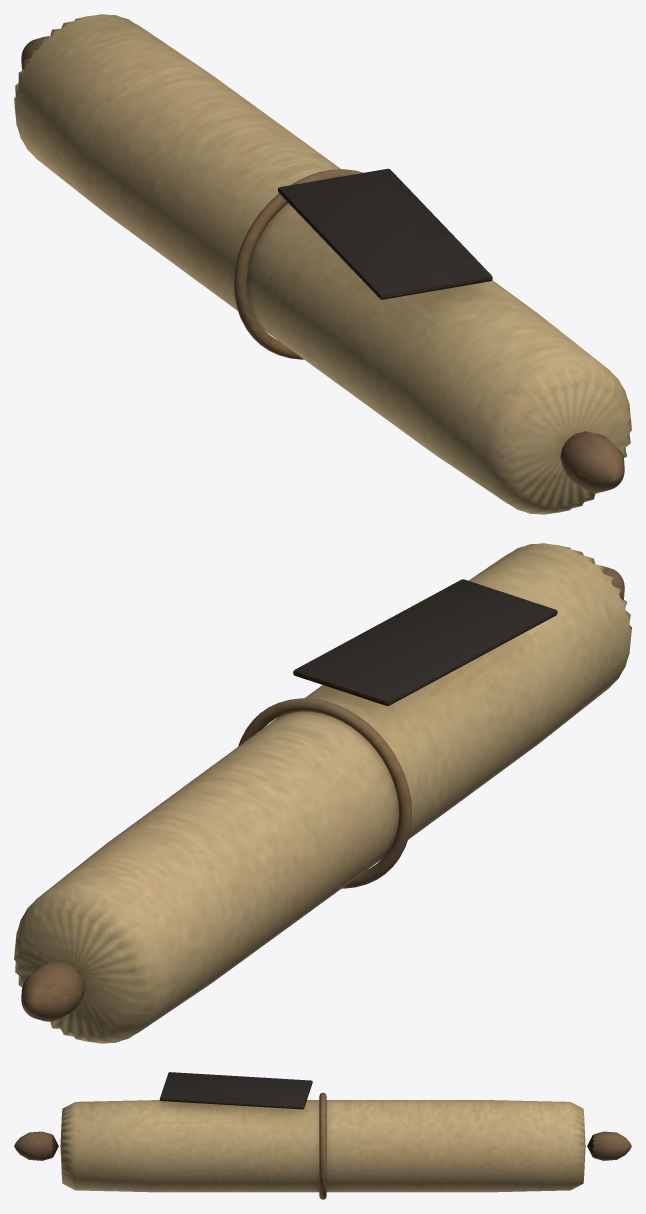
File: theophrastus.glb
The picture shows the model from 3 angles, top to bottom: view 1: azimuth 30°, elevation 25°; view 2: azimuth 150°, elevation 25°; view 3: azimuth 270°, elevation 25°; orthographic projection. The views are drawn at different scales.
Parts seen in each view (by area): view 1: theophrastus; view 2: theophrastus; view 3: theophrastus.
Part boxes in pixels (x1,y1,x2,y2): theophrastus: (14, 14, 631, 514); theophrastus: (14, 543, 631, 1043); theophrastus: (14, 1072, 631, 1199).
Size of the model in its own units: 0.0369 by 0.038 by 0.2117.
1 material, 1 textured.
